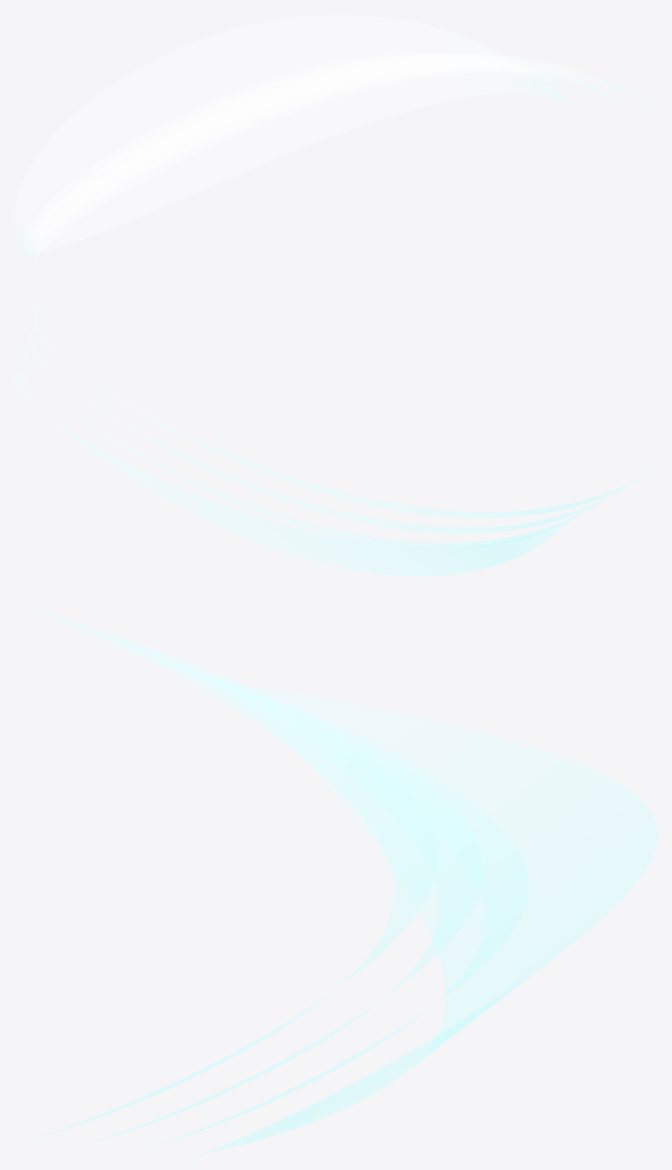
Rendered from qi-blade-r2.glb.
3 views of the same model, one above another, from view 1: azimuth 30°, elevation 25°; view 2: azimuth 150°, elevation 25°; view 3: azimuth 270°, elevation 25° (orthographic). The views are drawn at different scales.
Visible parts, largest first — view 1: QiBlade_Rim, QiBlade_Filament_3, QiBlade_Filament_2, QiBlade_Filament_1; view 2: QiBlade_Rim, QiBlade_Filament_3, QiBlade_Filament_2, QiBlade_Filament_1; view 3: QiBlade_Rim, QiBlade_Filament_3, QiBlade_Filament_2, QiBlade_Filament_1.
Part boxes in pixels (box(x1,y1,x2,y2)): QiBlade_Rim: box(14, 14, 574, 254); QiBlade_Filament_3: box(34, 54, 649, 268); QiBlade_Filament_2: box(29, 53, 621, 264); QiBlade_Filament_1: box(24, 53, 595, 257); QiBlade_Rim: box(14, 370, 574, 576); QiBlade_Filament_3: box(34, 306, 649, 517); QiBlade_Filament_2: box(29, 328, 620, 533); QiBlade_Filament_1: box(24, 350, 593, 548); QiBlade_Rim: box(200, 685, 657, 1154); QiBlade_Filament_3: box(25, 608, 437, 1138); QiBlade_Filament_2: box(85, 632, 482, 1142); QiBlade_Filament_1: box(148, 657, 528, 1146).
Bounding box in the file's own units: 1.38 × 0.2479 × 0.6679.
